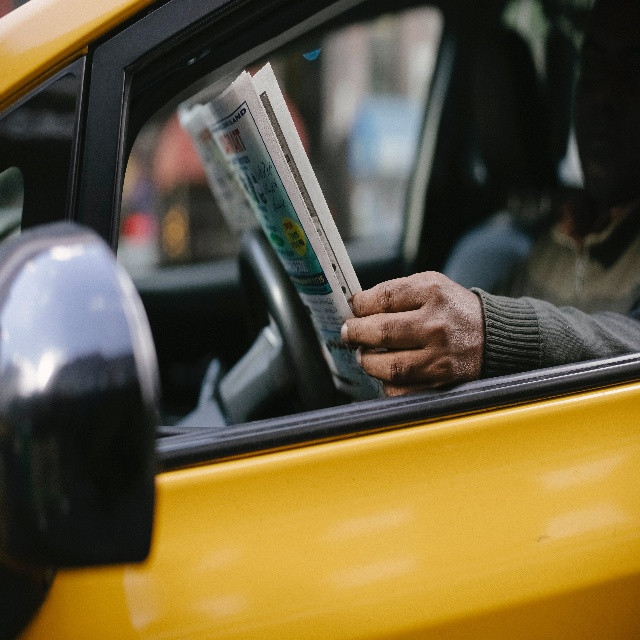Sin_guantes: (340, 269, 485, 396)
